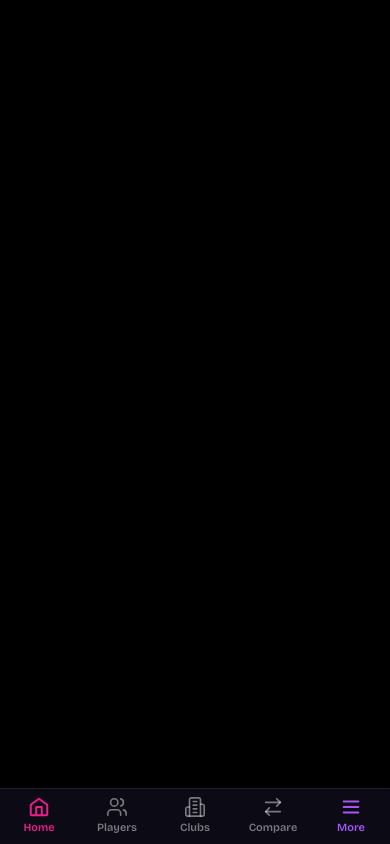
Test: MobileBottomNav › More sheet › opens sheet when More is tapped
This screenshot has width=390, height=844.
What coordinates should you click on to do the following:
click the button "More"
I would click on:
 (351, 816)
Its box is [312, 789, 389, 843].
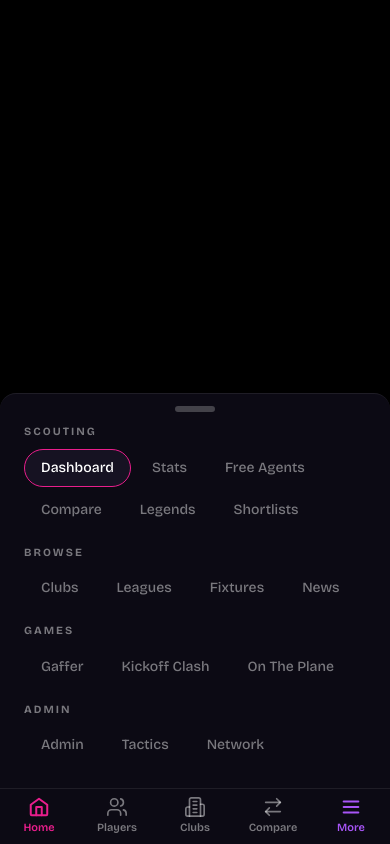
Expected: the text "Scouting" is shown, [24, 425, 97, 438]
Expected: the text "Browse" is shown, [24, 546, 84, 558]
Expected: the text "Games" is shown, [24, 624, 74, 637]
